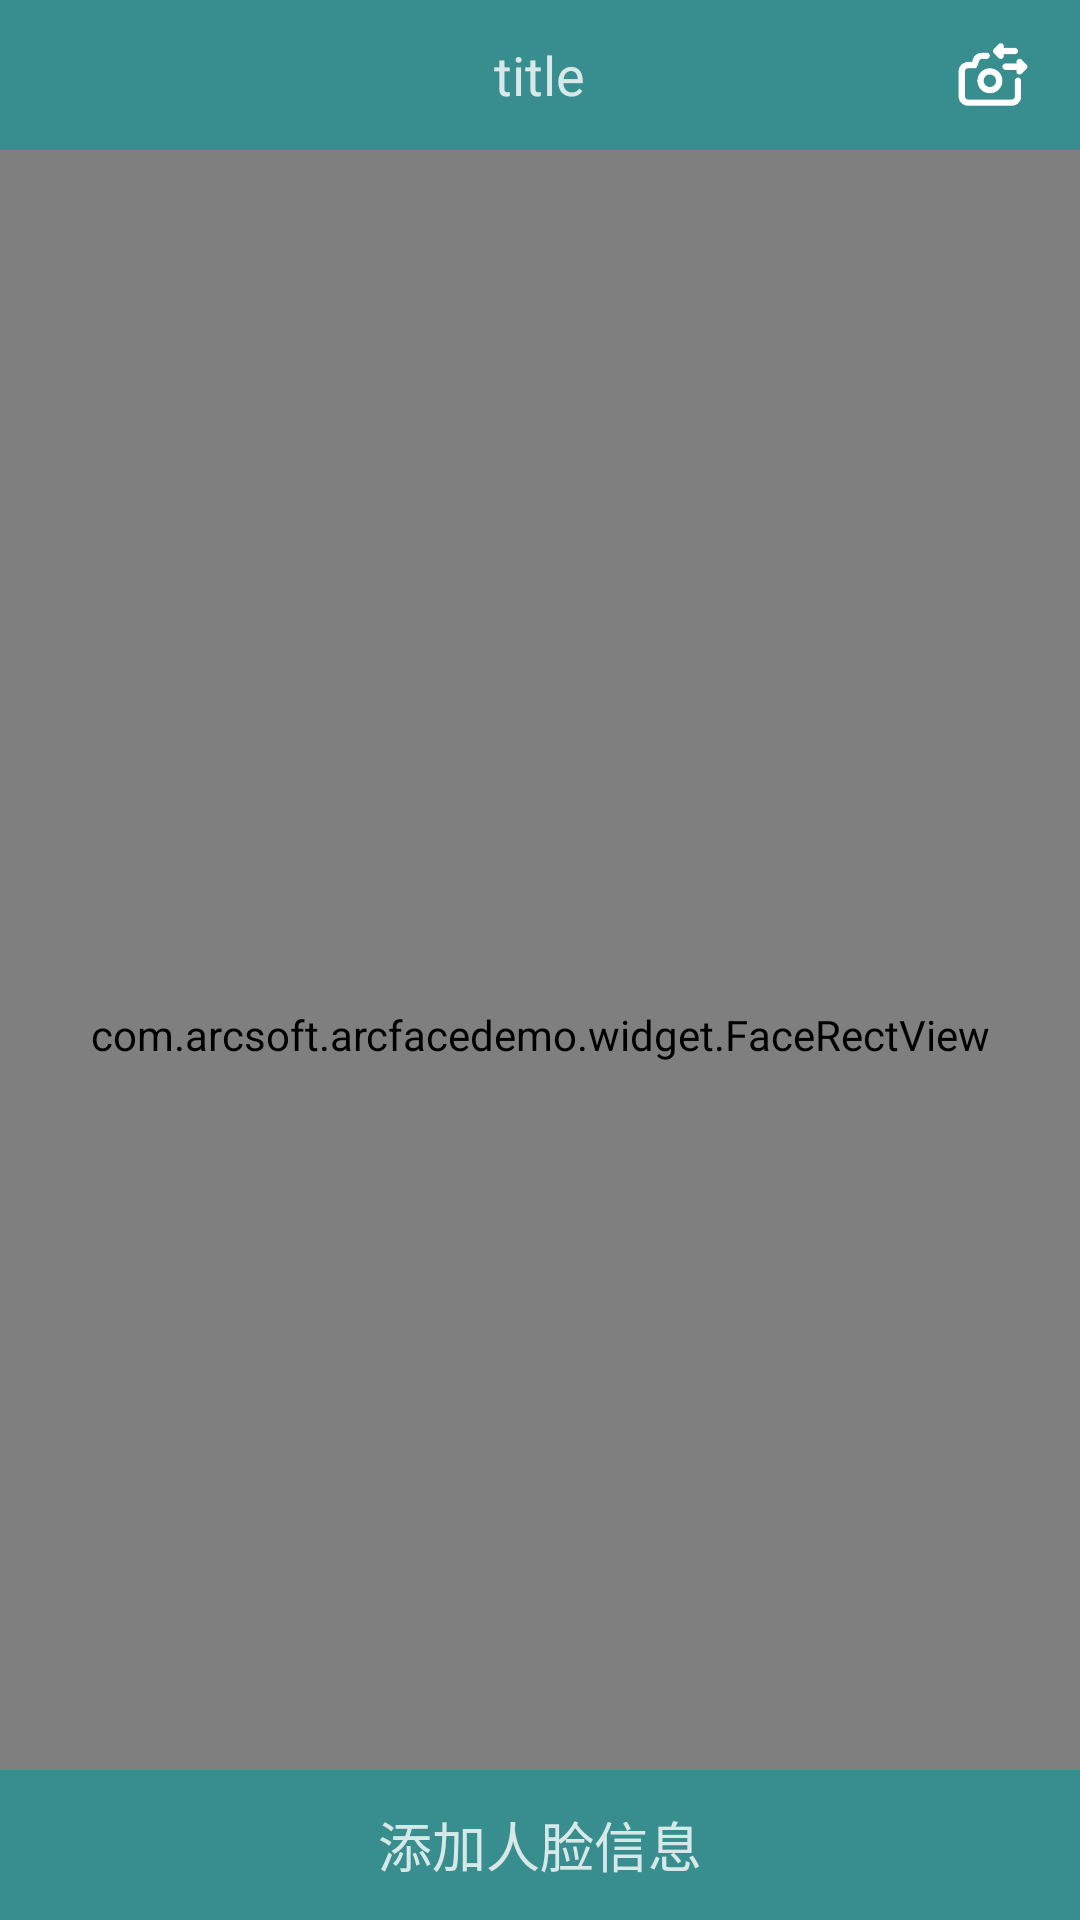

Icon bounding boxes for this 1080px×1920px phone screenshot, format detection(x1, y1, x2, y2):
camera change: detection(958, 43, 1028, 106)
